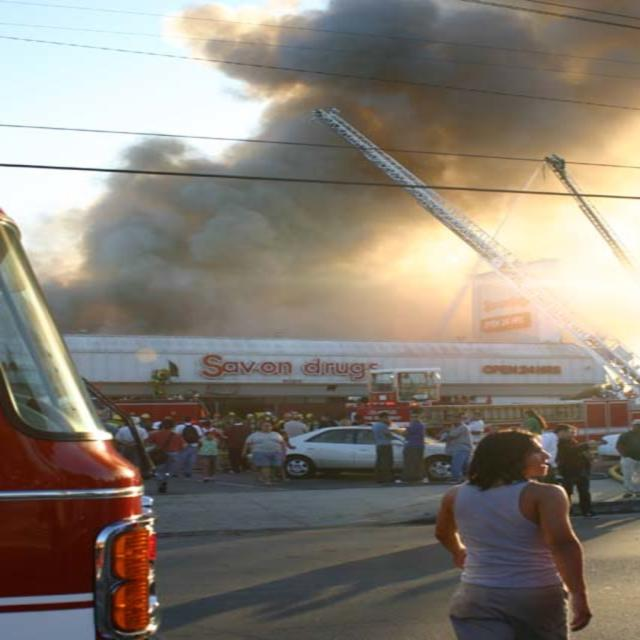Pedestrians: (436, 427, 598, 639)
